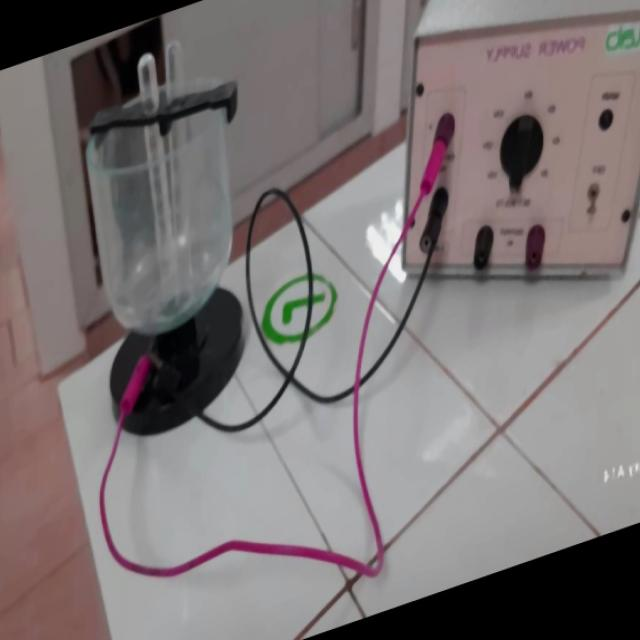Electrolyzer: (77, 21, 249, 458)
